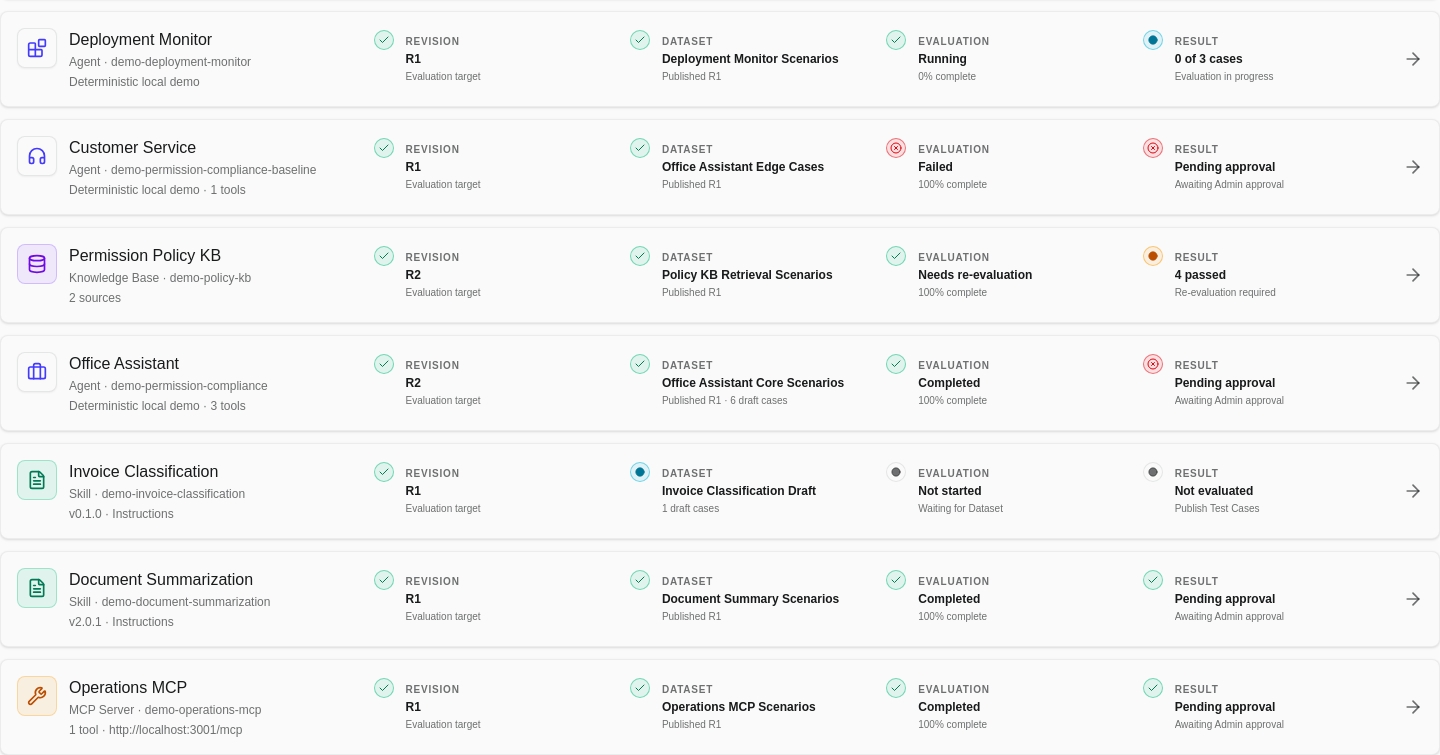
Test: Catalog drawer progressive disclosure › approves a passing evaluation directly from expanded Result details
(page scrolled)
Click the button named "Document Summarization demo-document-summarization" at x=720, y=599, box [0,551,1439,647]
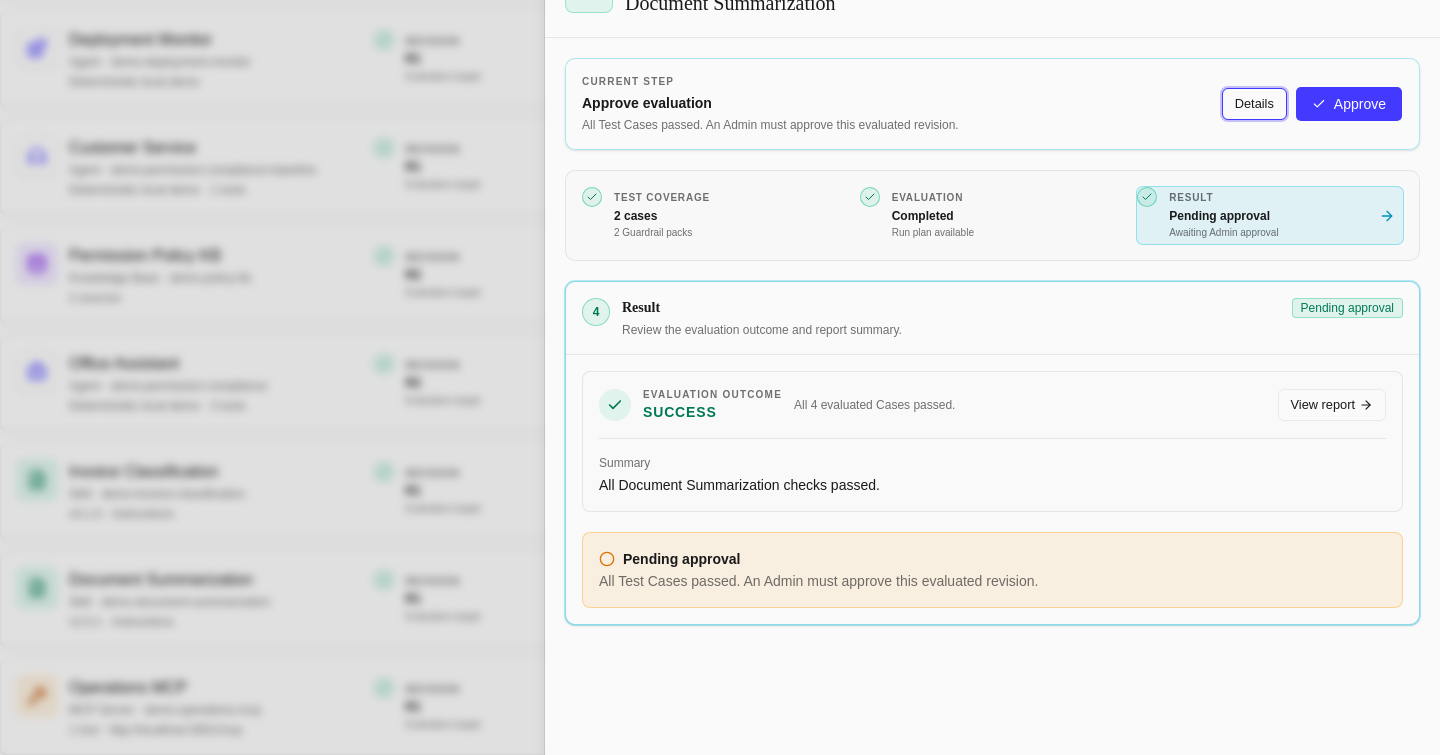
Click the button "Details" at x=1254, y=104, box [1222,88,1287,120]
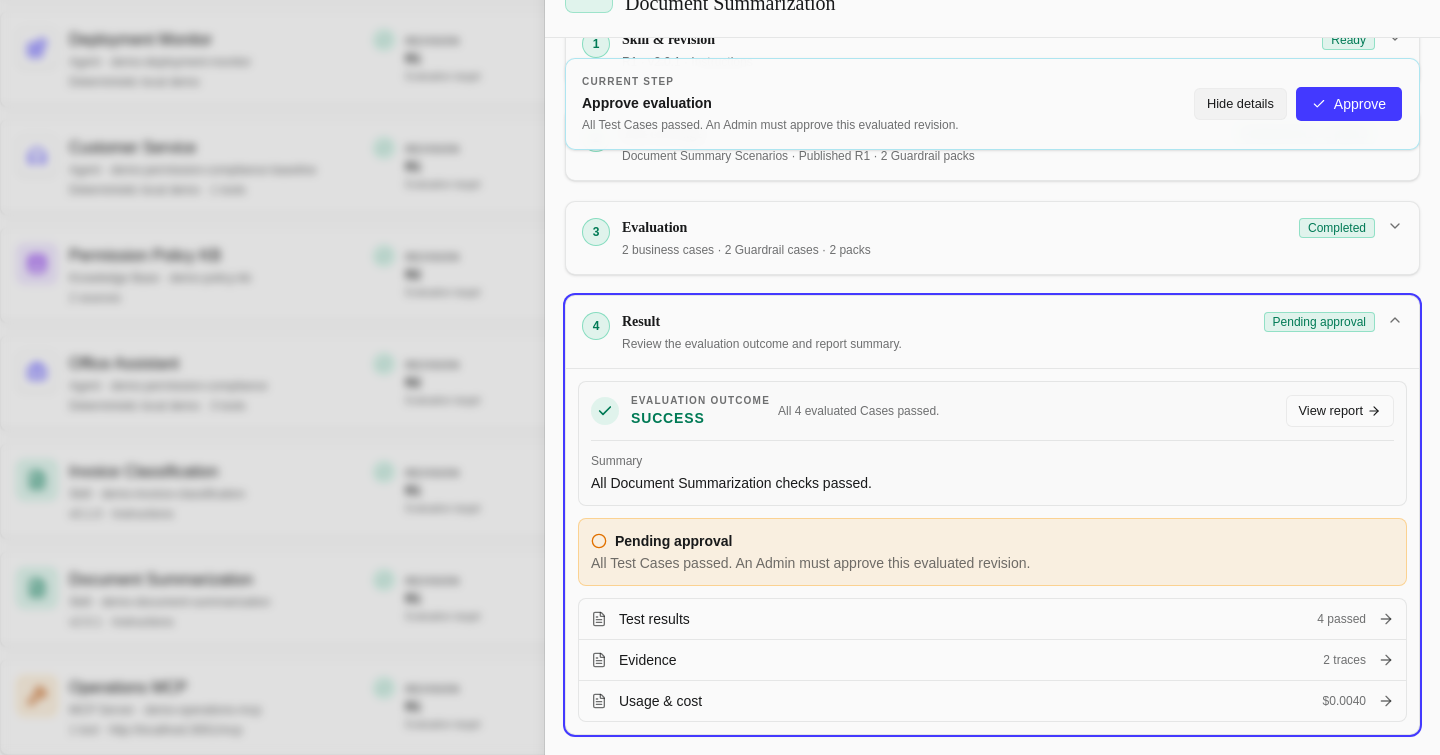
Result: the button named "Collapse Result" is shown at [566,296,1419,368]
Click the button "Approve" at x=1349, y=104, box [1295,86,1403,122]
(page scrolled)
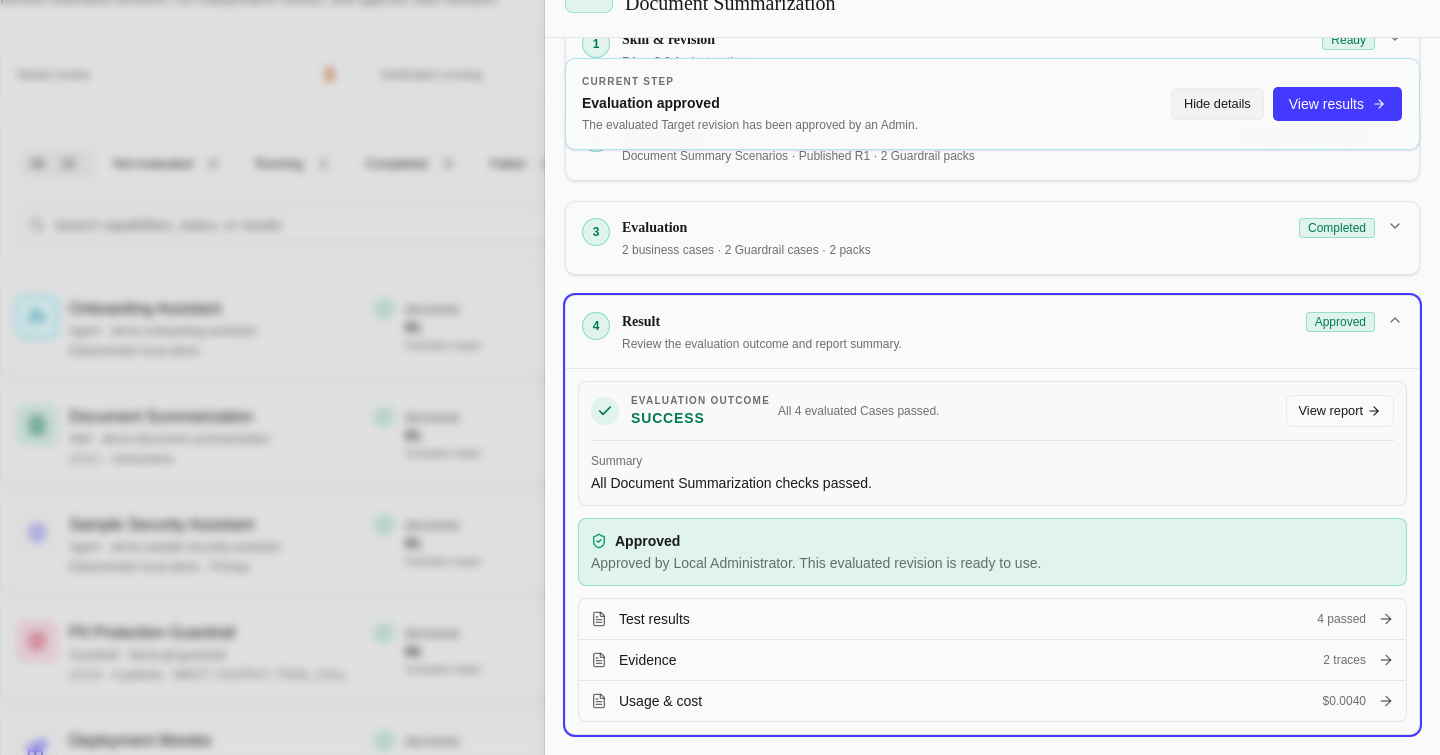
Result: the text "Approved" is shown at [1306,312,1375,332]
Result: the text "Approved by Local Administrator" is shown at [591,555,1041,571]
